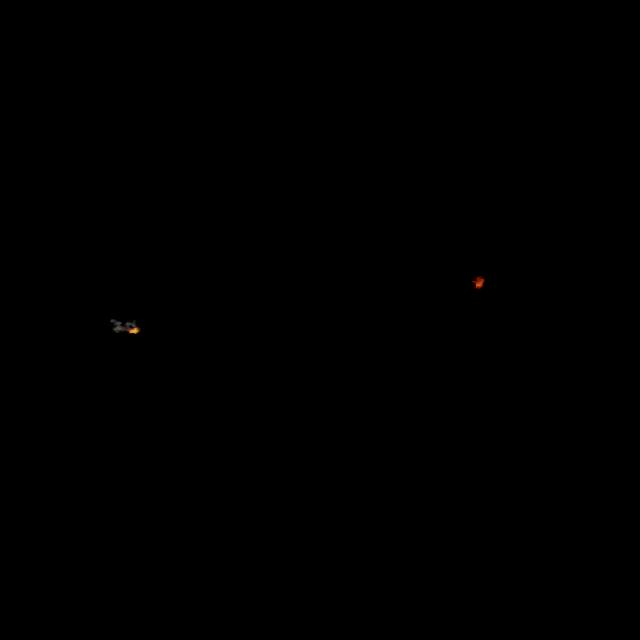fire: (472, 272, 487, 288), (126, 325, 142, 333)
smoke: (104, 312, 134, 333)
